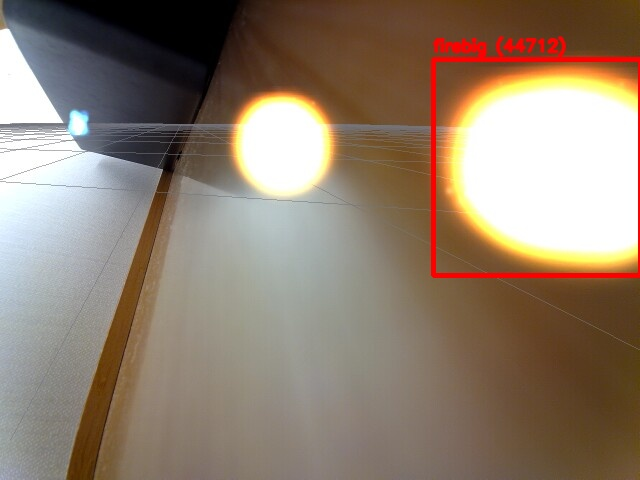firebig: (433, 59, 640, 275)
